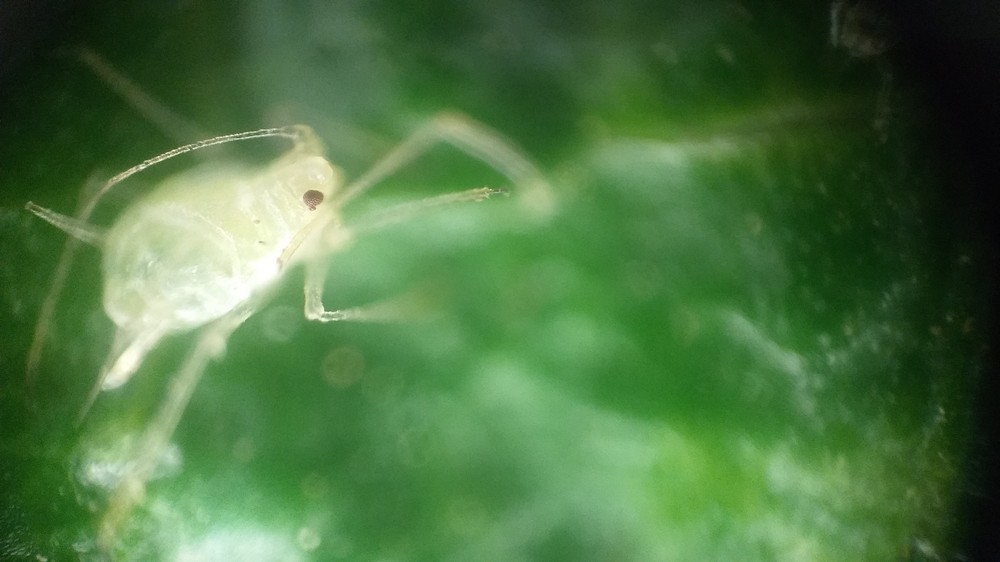Pulgon: (44, 54, 553, 440)
